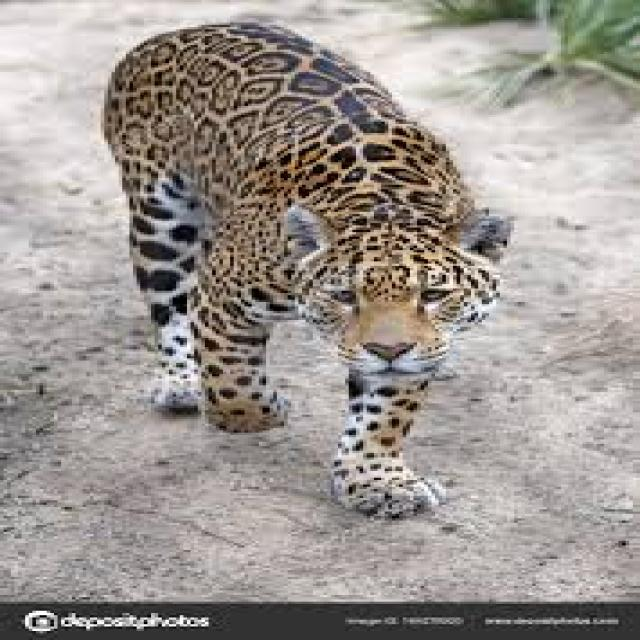Jaguar: (104, 34, 532, 532)
